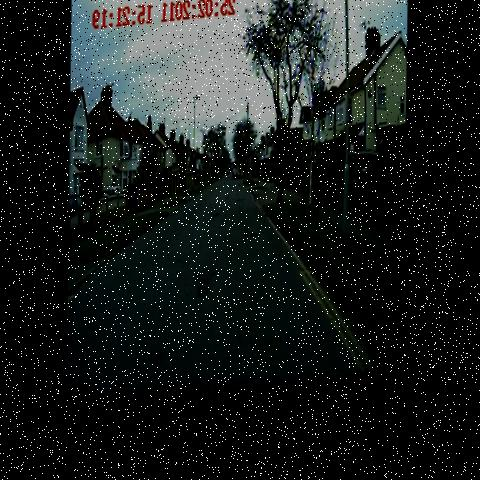pothole: (190, 263, 218, 308), (142, 349, 171, 384), (240, 224, 265, 258), (210, 210, 224, 229), (236, 199, 248, 215), (222, 198, 233, 210)
